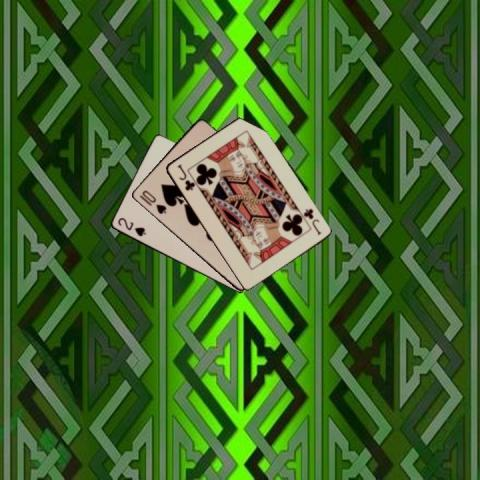10s: (139, 188, 167, 216)
2s: (115, 215, 147, 238)
Jc: (300, 205, 323, 237), (174, 161, 195, 192)
